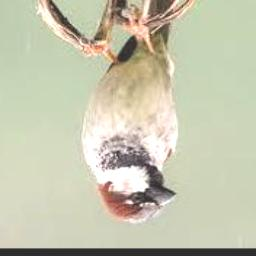Sparrow: (80, 0, 180, 225)
